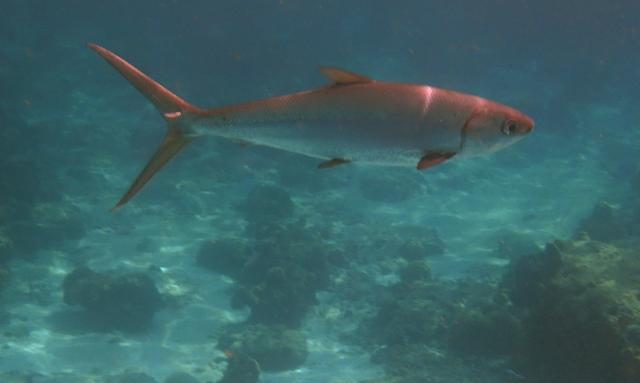Mulut: (506, 103, 550, 149)
Sirip Dada: (401, 136, 464, 178)
Sirip Ekor: (70, 32, 206, 220)
Sirip Perut: (304, 144, 360, 183)
Sirip Punggung: (308, 52, 384, 103)
